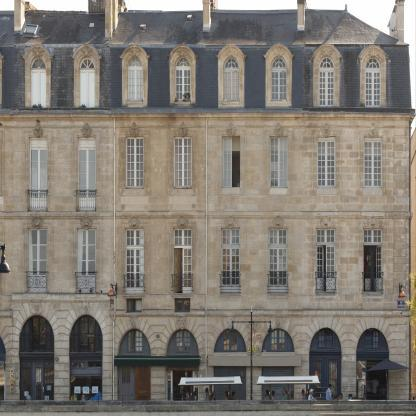Balcony: (362, 271, 384, 295), (315, 271, 337, 295), (171, 274, 194, 295), (219, 274, 242, 295), (26, 272, 48, 293), (75, 272, 97, 293), (123, 274, 145, 295), (267, 274, 289, 295), (76, 190, 96, 211), (28, 190, 48, 211)
Building Outline: (0, 0, 416, 401)
Cornice: (14, 302, 59, 341), (64, 302, 107, 341), (112, 317, 155, 350), (161, 317, 203, 350), (209, 317, 251, 350), (304, 317, 346, 349), (351, 317, 393, 349), (258, 318, 299, 349), (70, 44, 103, 65), (310, 43, 343, 64), (21, 44, 54, 64), (118, 44, 151, 64), (215, 44, 247, 64), (167, 44, 198, 64), (263, 44, 294, 64), (358, 45, 389, 64), (223, 215, 238, 229), (30, 215, 44, 229), (271, 215, 285, 229), (319, 215, 333, 229), (175, 215, 189, 229), (127, 215, 141, 229), (79, 215, 93, 229), (366, 216, 380, 229), (367, 122, 378, 137), (321, 122, 332, 137), (273, 122, 284, 137), (177, 122, 188, 137), (81, 122, 92, 137), (33, 122, 43, 137), (226, 122, 236, 137), (129, 122, 139, 137)
Door: (28, 229, 47, 293), (28, 148, 47, 212), (213, 366, 246, 401), (77, 148, 95, 212), (77, 229, 95, 293), (262, 366, 294, 401), (363, 245, 382, 295), (316, 245, 335, 295), (125, 246, 144, 295), (173, 246, 192, 295), (221, 246, 240, 295), (269, 246, 287, 295), (118, 359, 135, 400), (310, 357, 324, 400), (327, 357, 340, 400), (33, 360, 43, 400)
Facade: (0, 10, 410, 399)
Floor: (0, 116, 410, 212), (0, 215, 410, 295), (0, 298, 410, 354)
Floor Slab: (0, 354, 410, 360), (0, 294, 410, 298), (0, 211, 410, 215), (0, 113, 410, 116)
Ground Floor: (0, 359, 410, 401)
Roof: (0, 9, 416, 115)
Shop: (357, 360, 389, 400), (166, 370, 199, 401), (69, 375, 102, 401)
Sill: (222, 101, 240, 104), (270, 101, 287, 104), (174, 101, 191, 104), (127, 101, 143, 104)
Top Floor: (0, 44, 410, 113)
Window: (19, 315, 54, 400), (69, 315, 103, 401), (165, 328, 199, 401), (117, 329, 151, 400), (261, 328, 294, 401), (213, 328, 246, 401), (356, 328, 389, 400), (309, 328, 342, 400), (28, 137, 47, 211), (77, 137, 95, 211), (19, 315, 54, 353), (69, 315, 103, 353), (125, 137, 144, 189), (317, 137, 336, 189), (222, 136, 241, 188), (364, 137, 382, 189), (270, 136, 288, 188), (174, 137, 192, 189), (165, 328, 199, 355), (117, 329, 151, 355), (213, 328, 247, 353), (365, 57, 381, 108), (30, 57, 46, 108), (79, 57, 95, 108), (319, 57, 335, 108), (261, 328, 295, 352), (356, 328, 389, 351), (310, 328, 341, 351), (127, 57, 143, 101), (175, 57, 191, 101), (223, 57, 239, 101), (271, 57, 287, 101), (19, 360, 33, 400), (43, 360, 54, 400), (125, 228, 144, 246), (173, 228, 192, 246), (221, 228, 240, 246), (269, 228, 287, 246), (363, 228, 382, 245), (316, 228, 335, 245), (175, 298, 191, 313), (126, 298, 142, 313), (72, 362, 86, 369), (88, 362, 102, 369), (25, 25, 37, 33), (187, 16, 193, 21), (140, 25, 146, 29), (90, 24, 94, 27)
